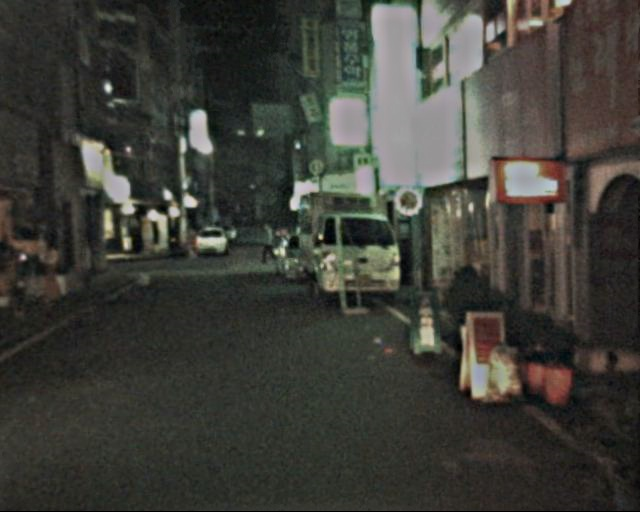person: (252, 219, 278, 271)
